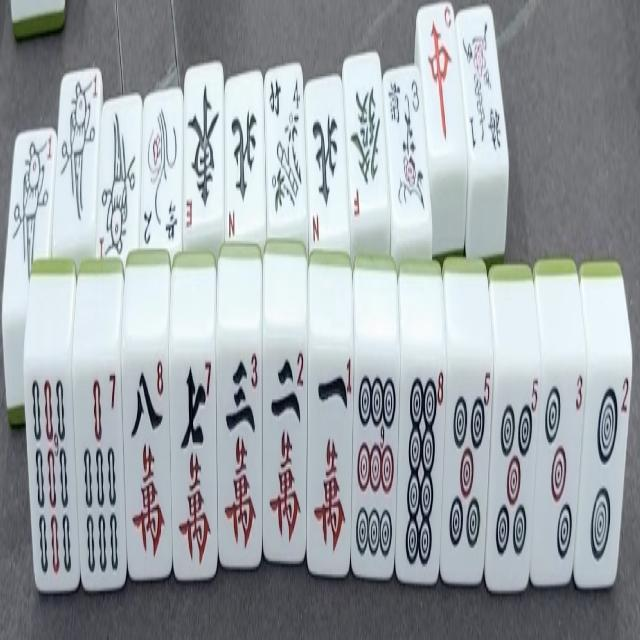east: (186, 76, 220, 238)
f1: (461, 14, 502, 175)
f2: (143, 96, 177, 249)
f3: (387, 76, 425, 232)
f4: (266, 62, 304, 242)
fa: (348, 62, 383, 223)
m1: (309, 338, 349, 578)
m2: (262, 335, 306, 563)
m3: (216, 338, 258, 572)
m7: (174, 349, 214, 577)
m8: (124, 352, 168, 570)
north: (306, 76, 344, 240), (226, 75, 262, 222)
s1: (58, 72, 96, 230), (102, 105, 135, 260), (12, 129, 47, 271)
s7: (74, 368, 121, 581)
s9: (31, 360, 67, 592)
t2: (585, 366, 621, 578)
t3: (542, 371, 576, 577)
t5: (491, 376, 530, 588), (445, 366, 482, 573)
t8: (400, 352, 437, 581)
t9: (354, 354, 394, 575)
zhong: (423, 7, 458, 159)
